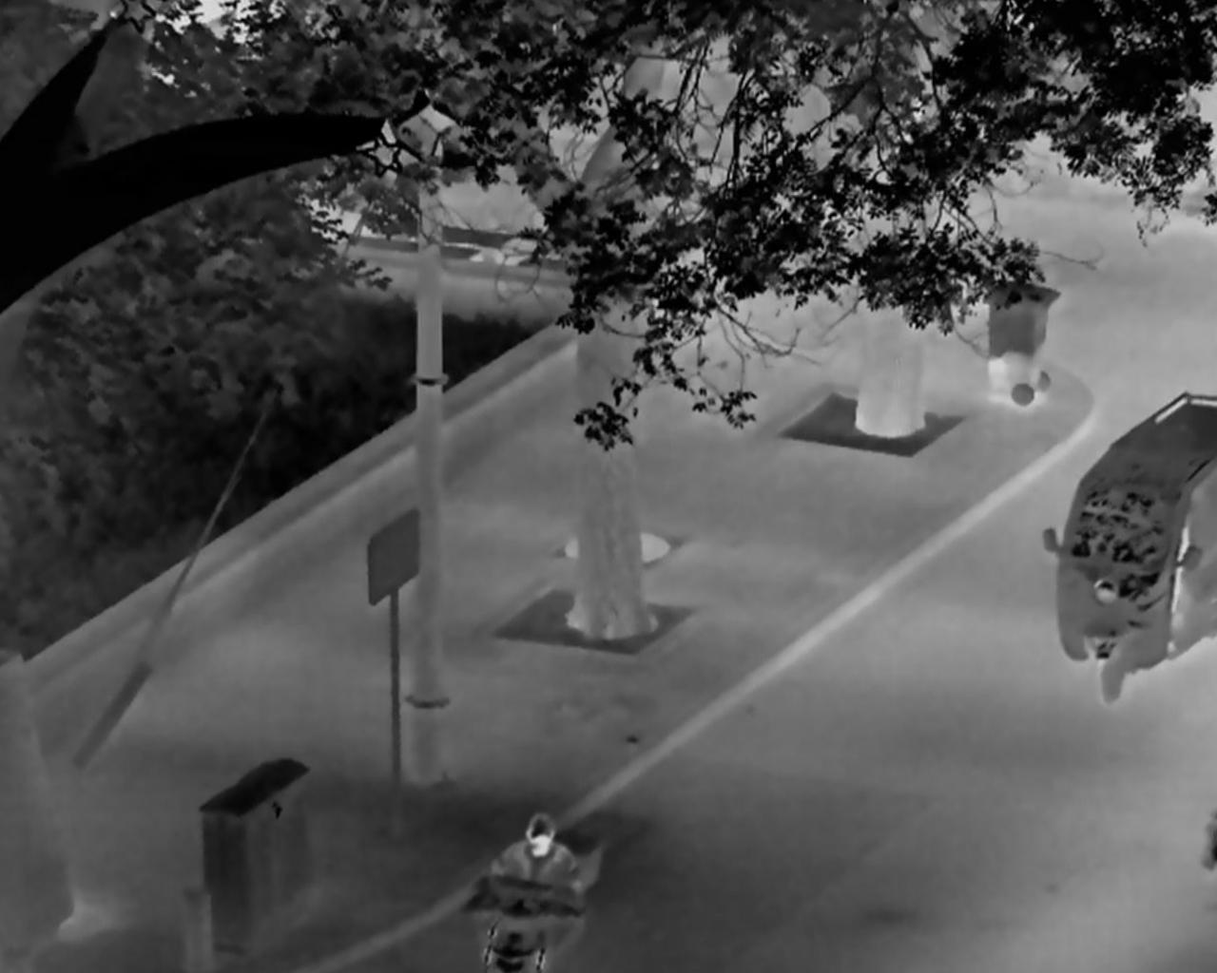person: (485, 805, 585, 973)
